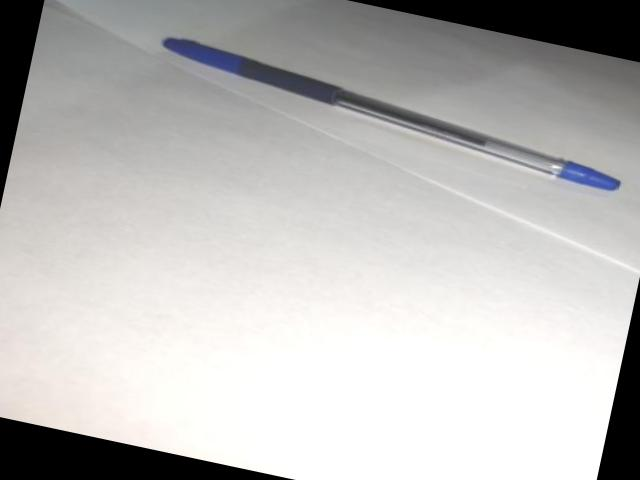PEN: (155, 27, 627, 204)
